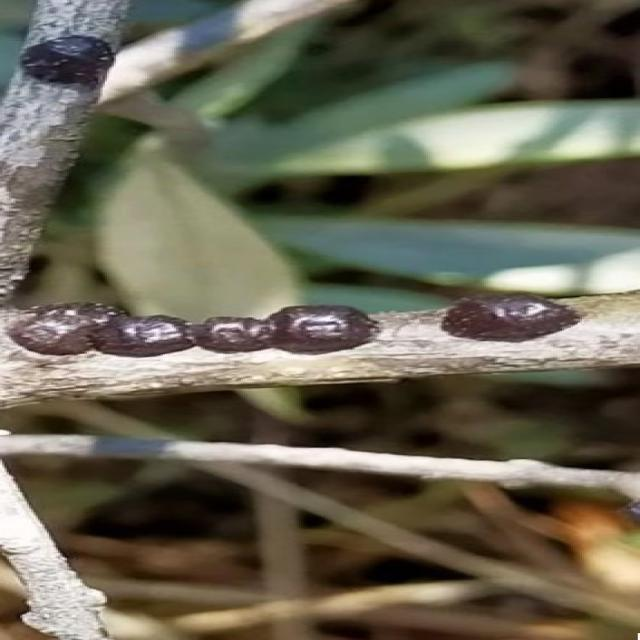BlackScale: (9, 303, 379, 357), (442, 293, 582, 342), (24, 34, 111, 90)
